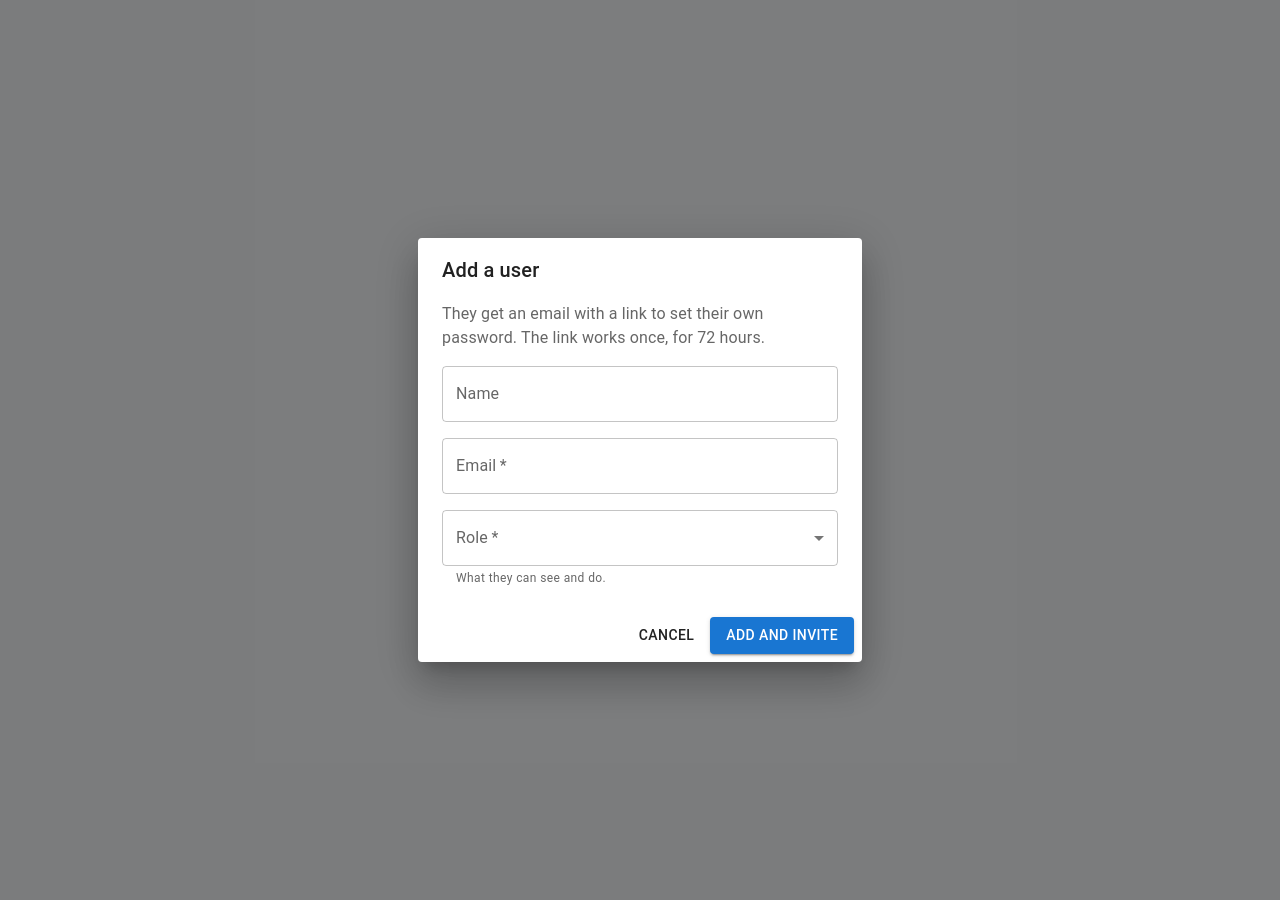
it: AddUserDialog › offers the owner role only to an owner
Press the mouse on the dropdown at (640, 538), box left=442, top=510, right=838, bottom=566
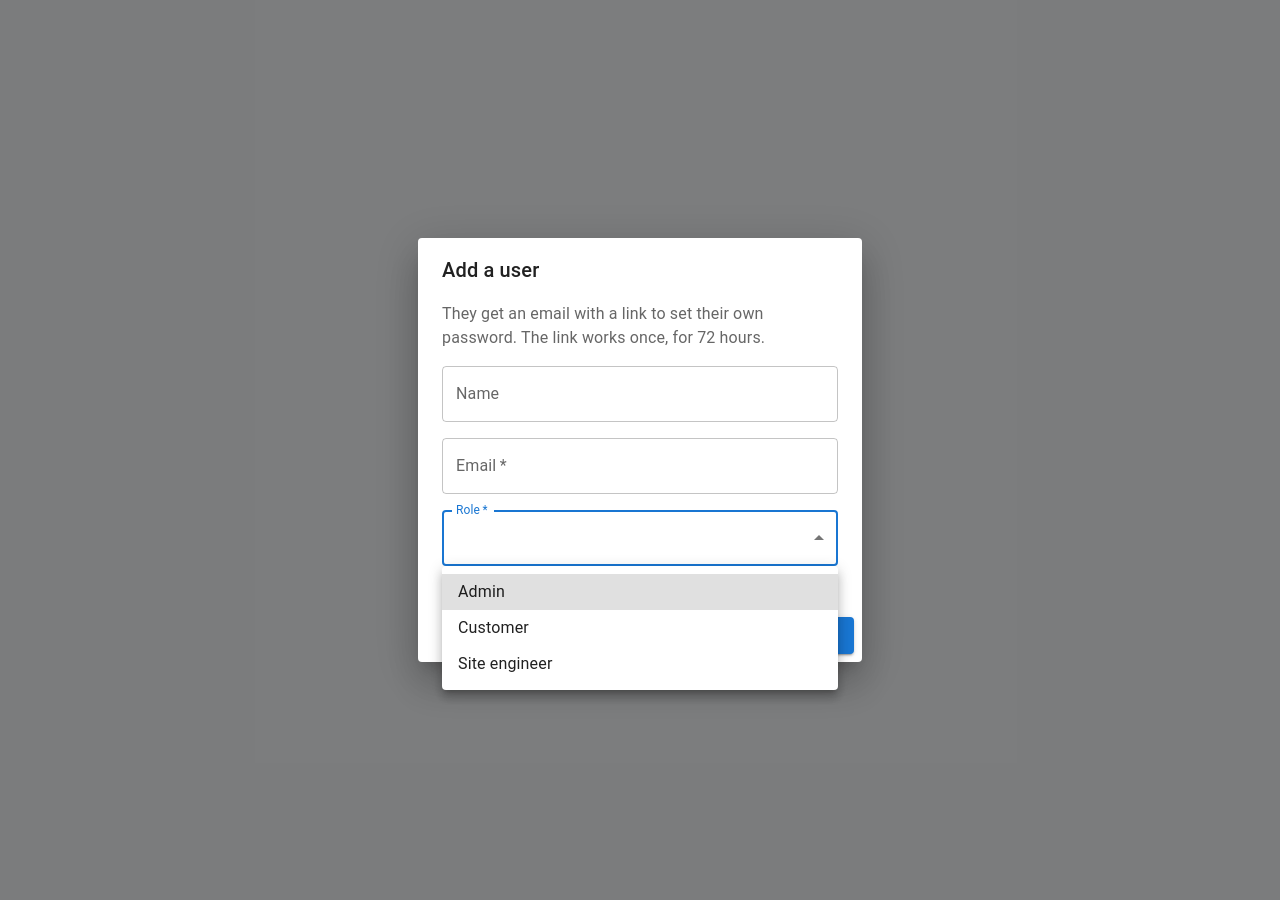
Check: the option "Site engineer" is shown, box left=458, top=654, right=552, bottom=673
